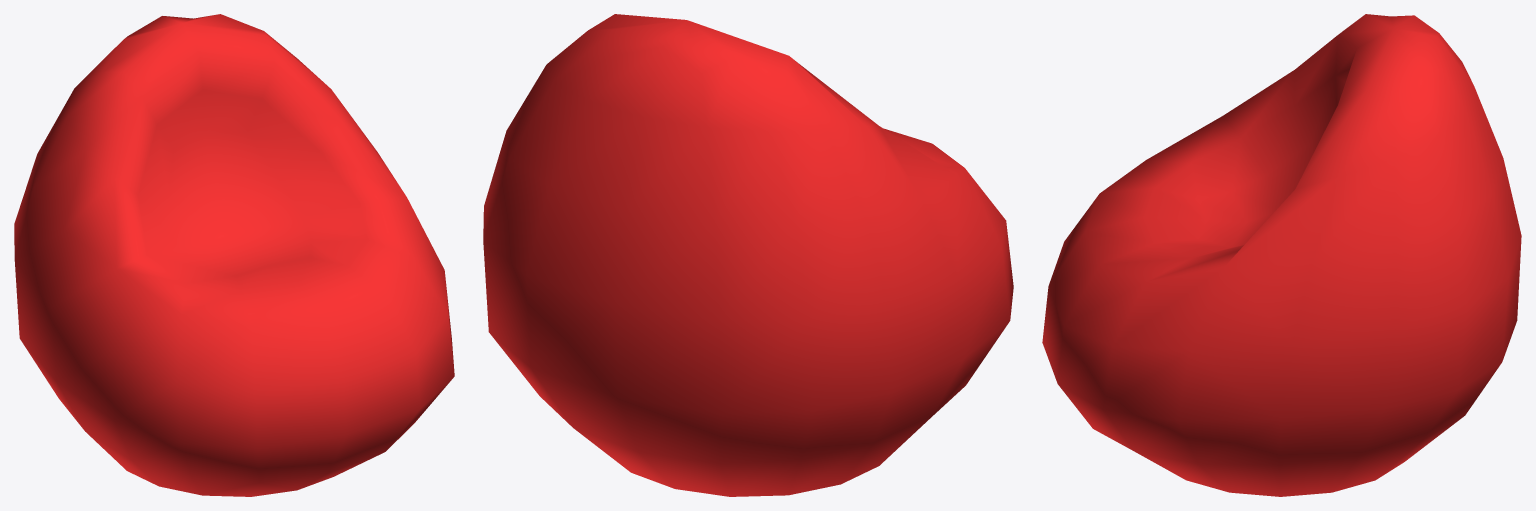
The model's file is armchair_007.glb.
3 renders of one model, left to right at view 1: azimuth 30°, elevation 25°; view 2: azimuth 150°, elevation 25°; view 3: azimuth 270°, elevation 25°, orthographic. The views are drawn at different scales.
Parts seen in each view (by area): view 1: armchair_007; view 2: armchair_007; view 3: armchair_007.
Boxes of the visible parts, x1,y1,x2,y2 form: armchair_007: (14,14,454,496); armchair_007: (483,14,1013,496); armchair_007: (1042,14,1521,496).
Size of the model in its own units: 1.01 by 1.03 by 1.09.
1 material, 1 textured.
